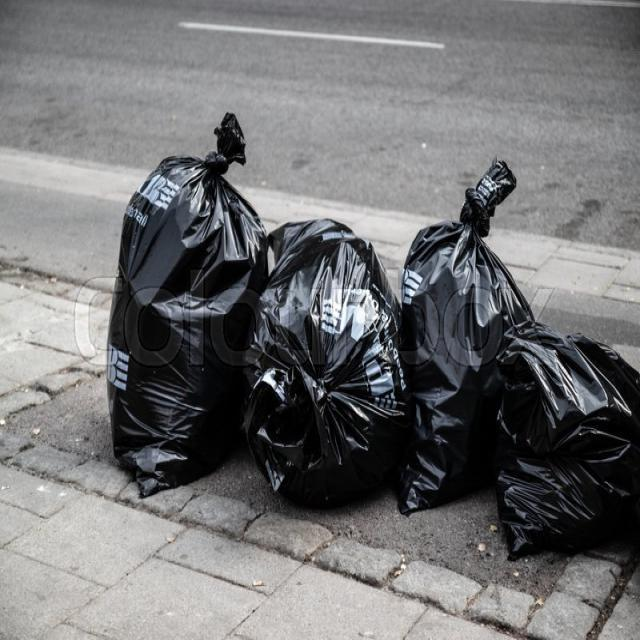garbage: (98, 105, 640, 594)
